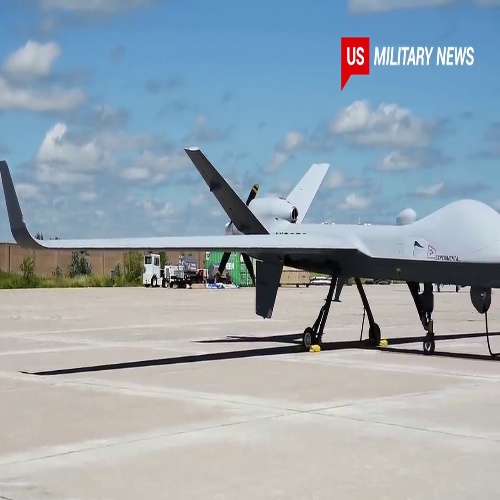uav: (1, 147, 500, 351)
